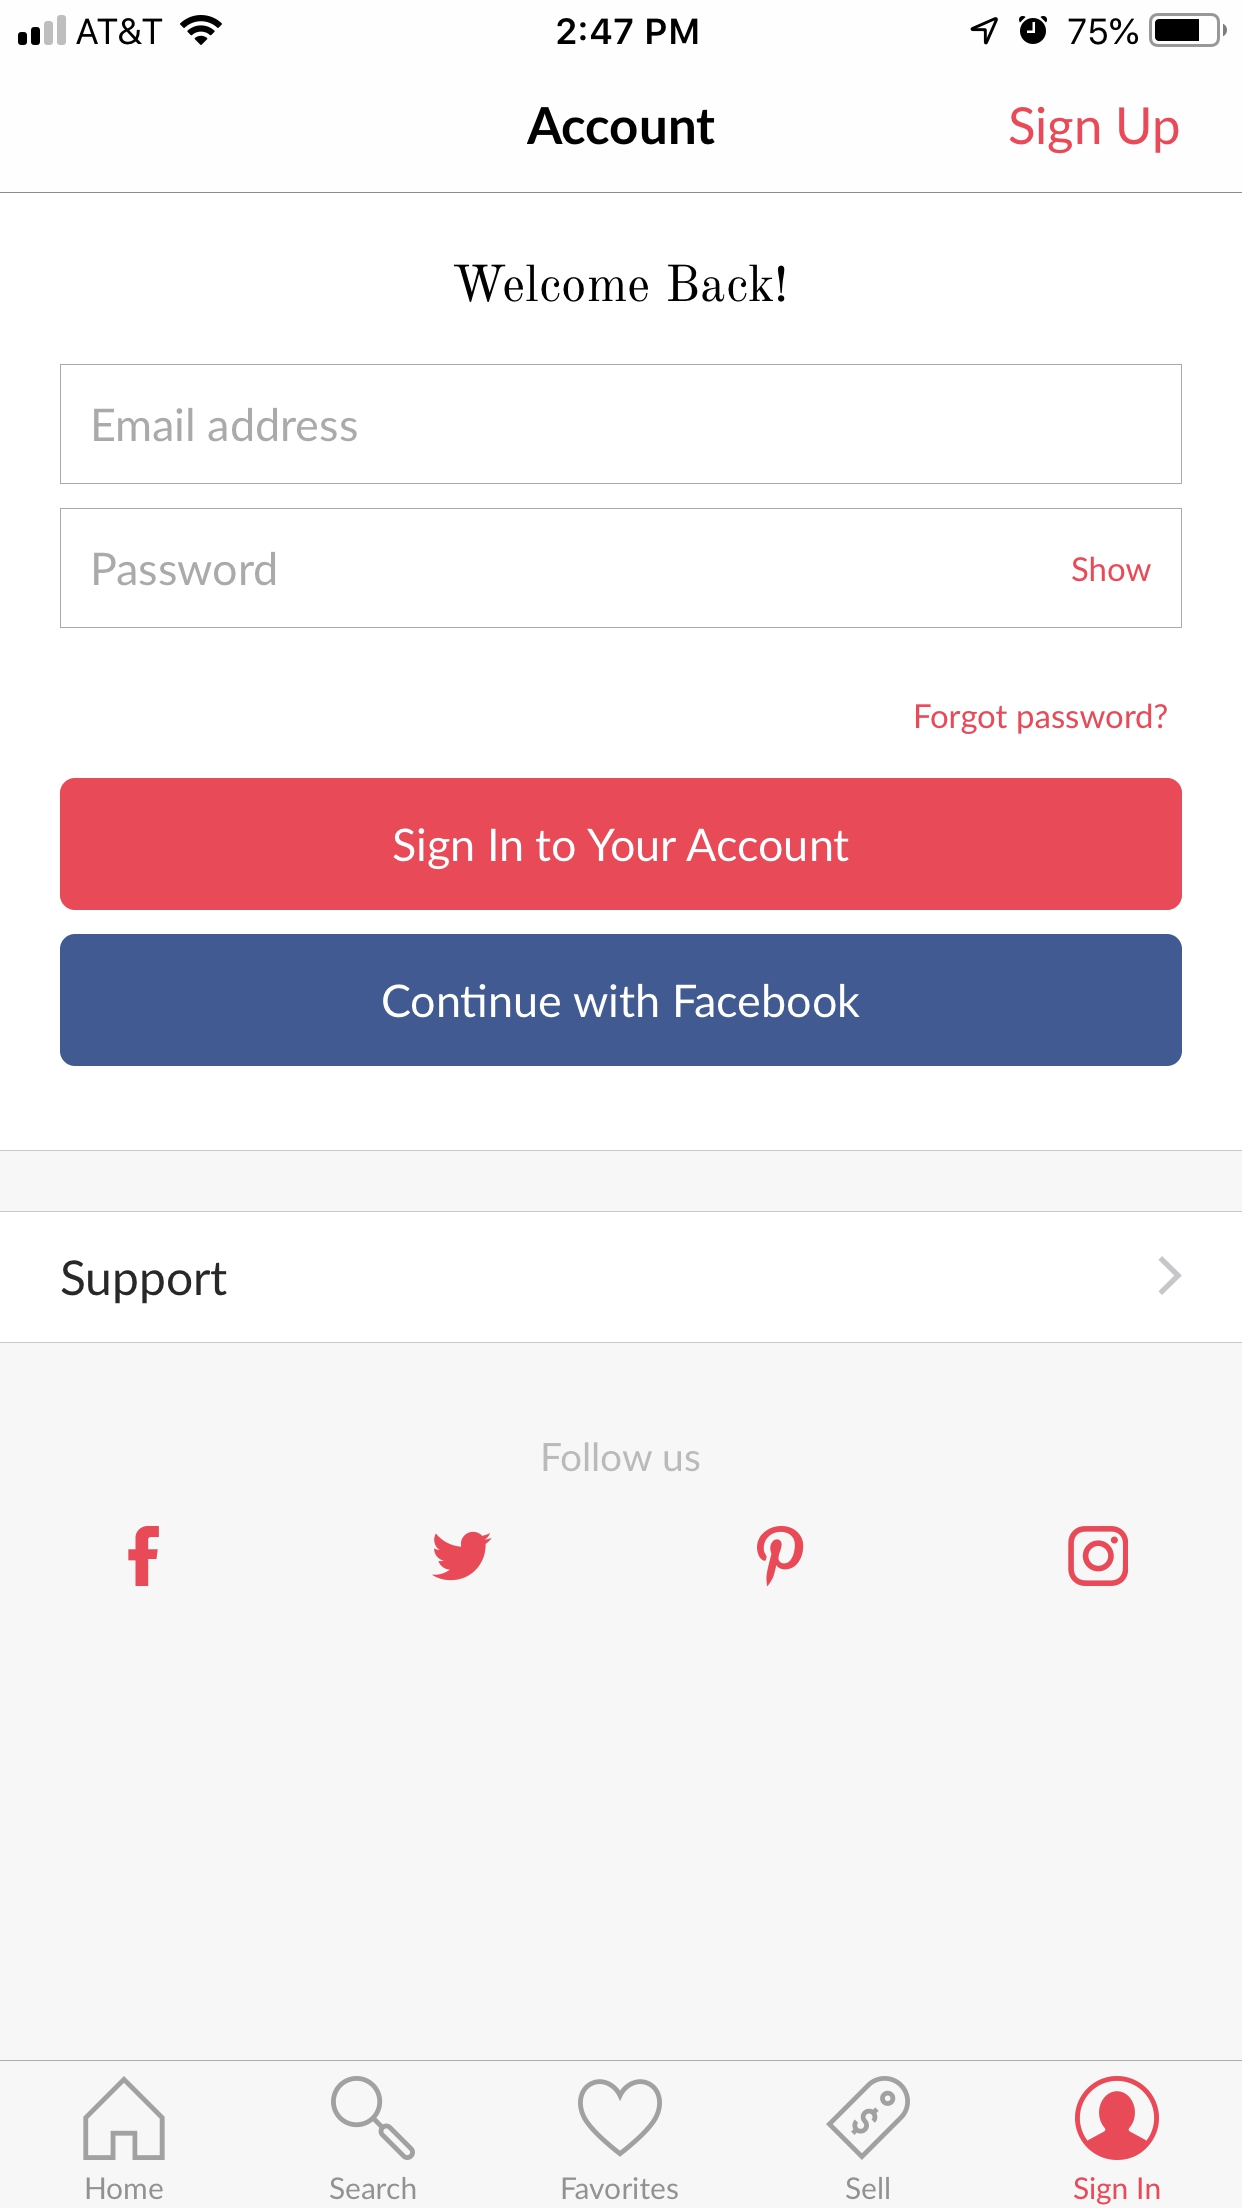EditText: (61, 365, 1181, 485), (61, 510, 1181, 629)
Icon: (331, 2075, 417, 2161), (825, 2075, 911, 2161), (1074, 2075, 1160, 2161), (83, 2075, 167, 2161), (576, 2078, 663, 2158), (1068, 1526, 1128, 1586), (432, 1532, 493, 1582), (127, 1526, 161, 1586), (1159, 1256, 1183, 1297)
Image: (757, 1526, 804, 1586)
Text: (453, 264, 786, 303), (96, 408, 358, 443), (1008, 106, 1178, 155), (916, 704, 1168, 735), (61, 1259, 227, 1306), (528, 108, 716, 146), (96, 552, 276, 587), (543, 1442, 701, 1473), (563, 2175, 679, 2200), (1074, 2176, 1162, 2206), (331, 2176, 417, 2200), (1071, 557, 1151, 582), (86, 2176, 165, 2200), (845, 2176, 890, 2200)
TextButton: (61, 778, 1183, 911), (61, 934, 1183, 1068)
UpperTaskBar: (2, 2, 1242, 49)
